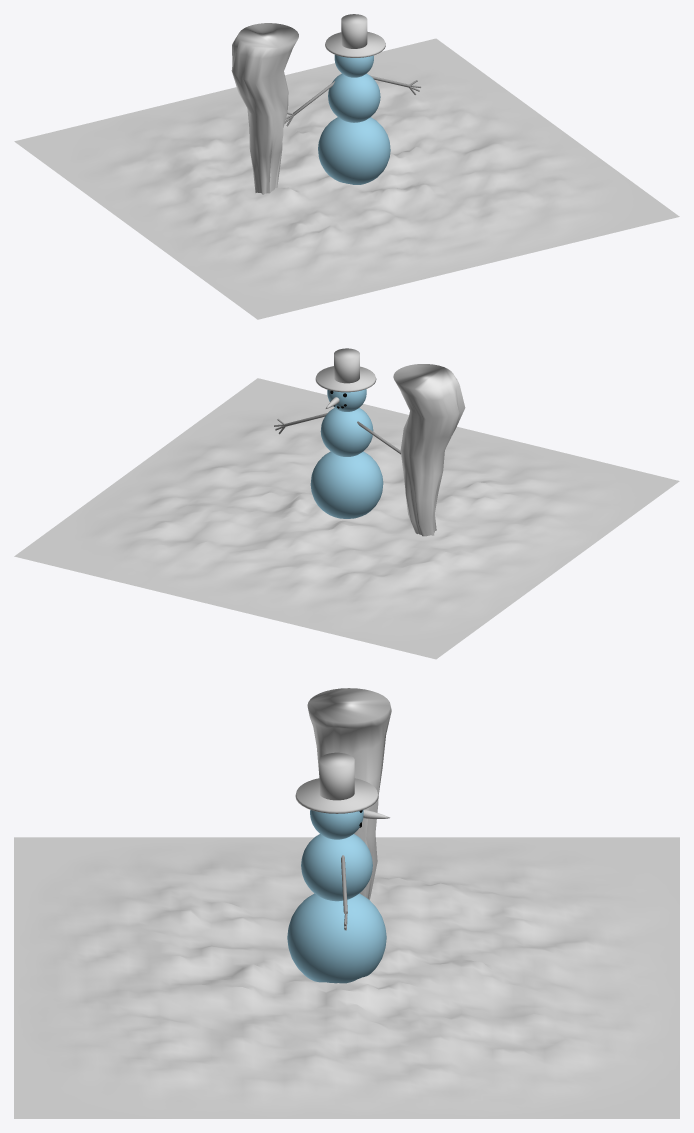
File: icicle2.fbx
The picture shows the model from 3 angles, top to bottom: view 1: azimuth 30°, elevation 25°; view 2: azimuth 150°, elevation 25°; view 3: azimuth 270°, elevation 25°; orthographic projection. The views are drawn at different scales.
Visible parts, largest first — view 1: Landscape, Cylinder.002, Sphere.002, Cylinder, Cylinder.003; view 2: Landscape, Cylinder.002, Sphere.002, Cylinder; view 3: Landscape, Sphere.002, Cylinder.002, Cylinder.
Part boxes in pixels (left/top/right/bottom): Landscape: left=14, top=38, right=679, bottom=319; Cylinder.002: left=231, top=23, right=298, bottom=194; Sphere.002: left=318, top=55, right=390, bottom=184; Cylinder: left=325, top=14, right=385, bottom=57; Cylinder.003: left=284, top=75, right=421, bottom=126; Landscape: left=14, top=378, right=679, bottom=659; Cylinder.002: left=393, top=364, right=465, bottom=536; Sphere.002: left=310, top=389, right=383, bottom=518; Cylinder: left=315, top=348, right=376, bottom=408; Landscape: left=14, top=837, right=679, bottom=1118; Sphere.002: left=287, top=810, right=386, bottom=983; Cylinder.002: left=307, top=688, right=391, bottom=899; Cylinder: left=295, top=752, right=378, bottom=827.
Size of the model in its own units: 16 by 8.38 by 16.
